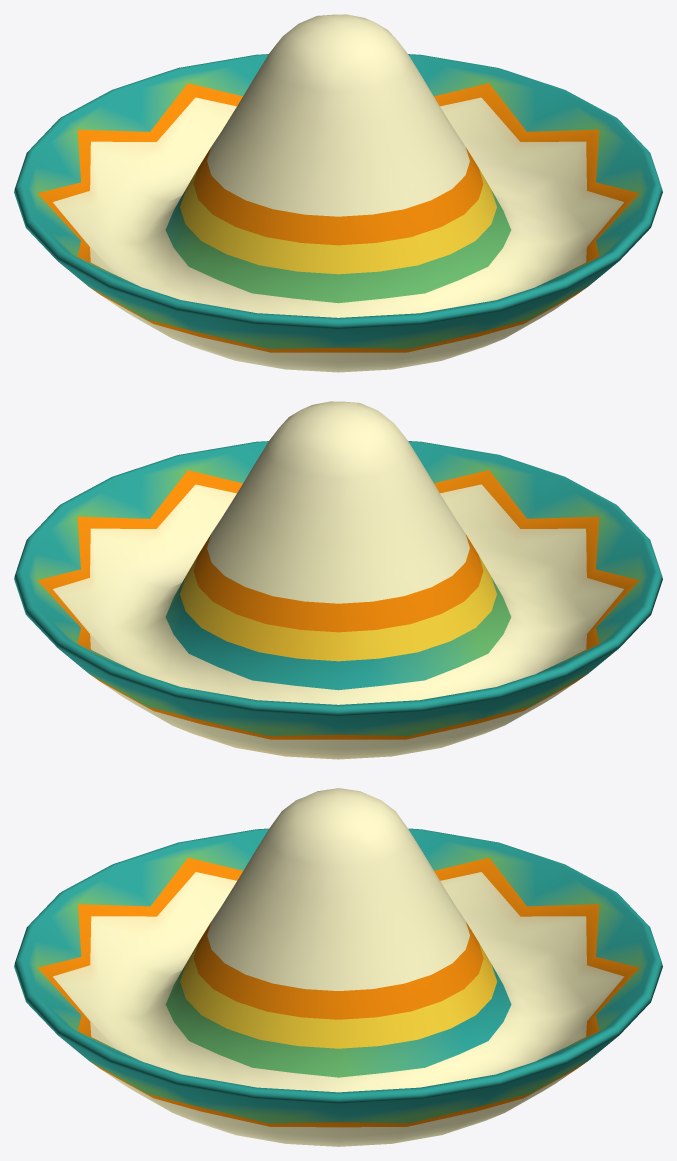
File: MexicoHat.fbx
3 renders of one model, top to bottom at view 1: azimuth 30°, elevation 25°; view 2: azimuth 150°, elevation 25°; view 3: azimuth 270°, elevation 25°, orthographic.
Visible parts, largest first — view 1: MexicoHat; view 2: MexicoHat; view 3: MexicoHat.
Boxes of the visible parts, <box> form: MexicoHat: <box>14,14,662,372</box>; MexicoHat: <box>14,401,662,759</box>; MexicoHat: <box>14,788,662,1146</box>.
Size of the model in its own units: 220 by 100 by 220.
